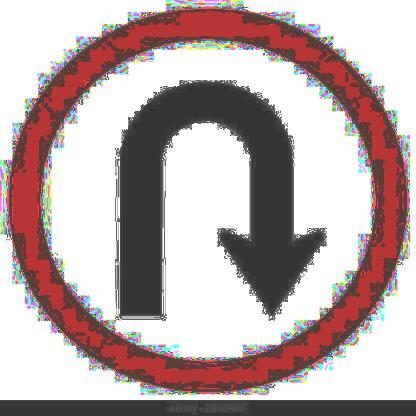U-turn: (12, 12, 409, 391)
